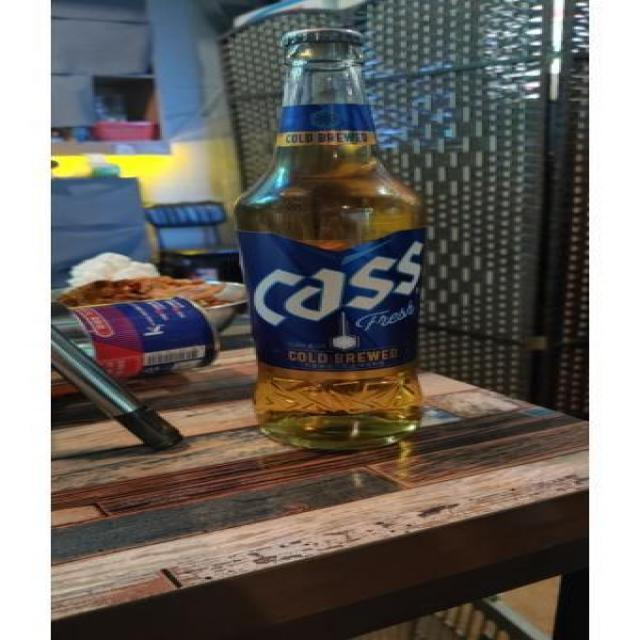beer-bottle: (246, 22, 418, 460)
